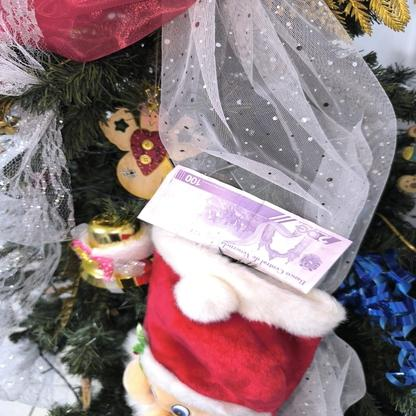one_hundred-back-vef: (137, 164, 352, 294)
